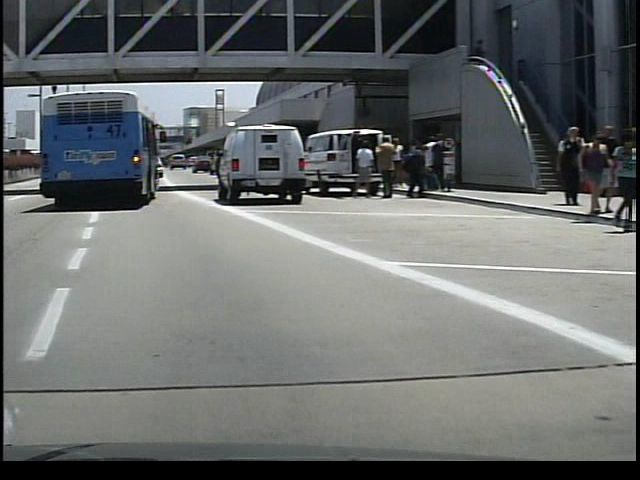person: (370, 135, 394, 200), (346, 134, 370, 197)
